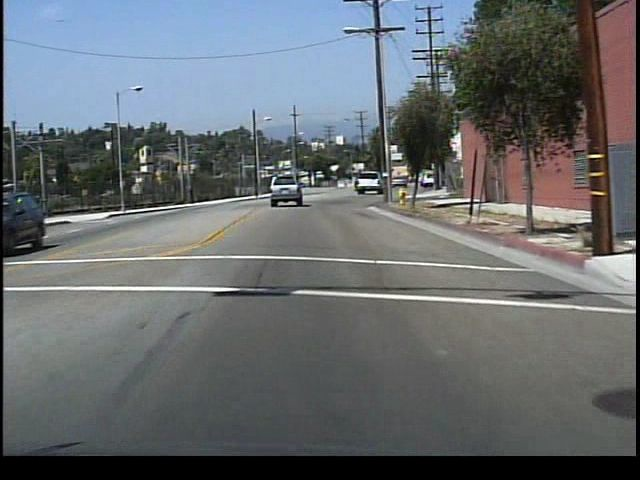person: (185, 180, 202, 204)
